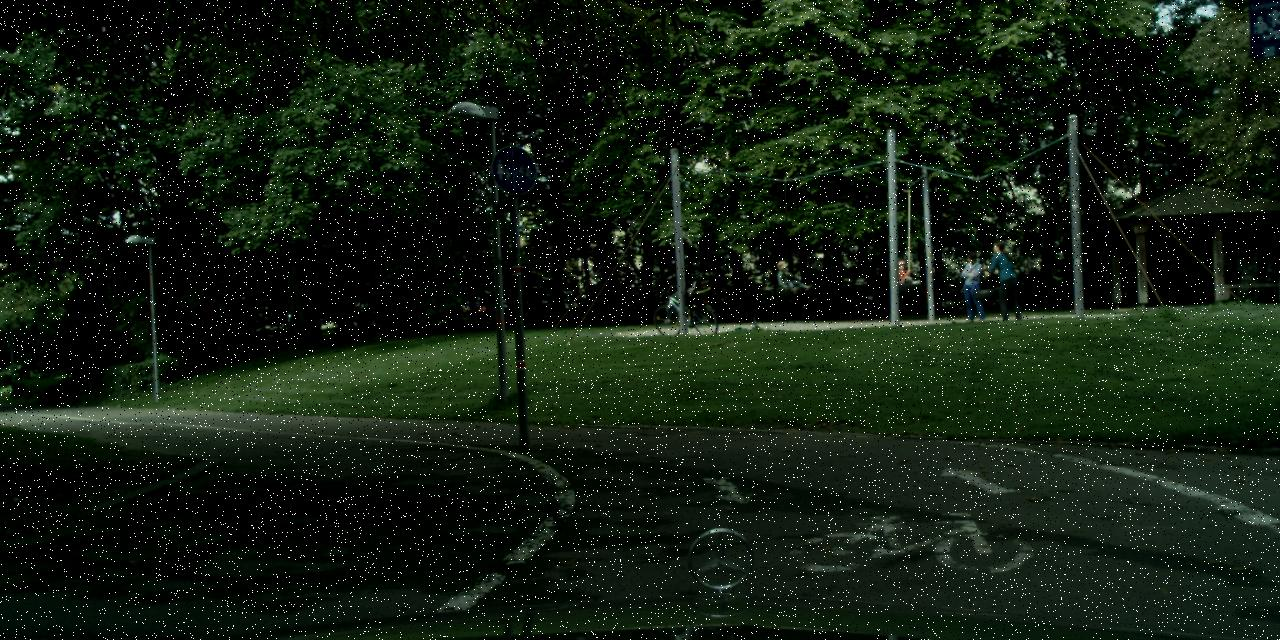ped: (989, 240, 1021, 320), (960, 251, 989, 322)
